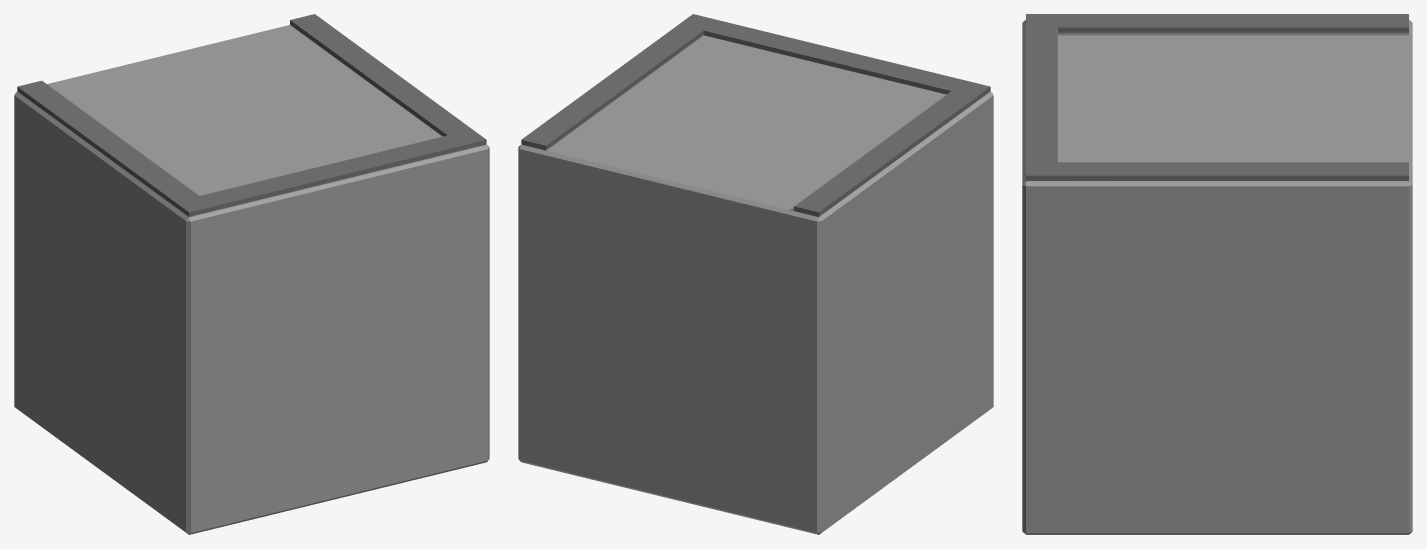
Rendered from 13 Concrete End.fbx.
3 views of the same model, side by side, from view 1: azimuth 30°, elevation 25°; view 2: azimuth 150°, elevation 25°; view 3: azimuth 270°, elevation 25° (orthographic). The views are drawn at different scales.
Parts seen in each view (by area): view 1: 13 Concrete End; view 2: 13 Concrete End; view 3: 13 Concrete End.
Part boxes in pixels (x1,y1,x2,y2): 13 Concrete End: [14, 14, 489, 534]; 13 Concrete End: [518, 14, 993, 534]; 13 Concrete End: [1022, 14, 1412, 534].
Bounding box in the file's own units: 100 × 102 × 100.
1 material, 1 textured.
